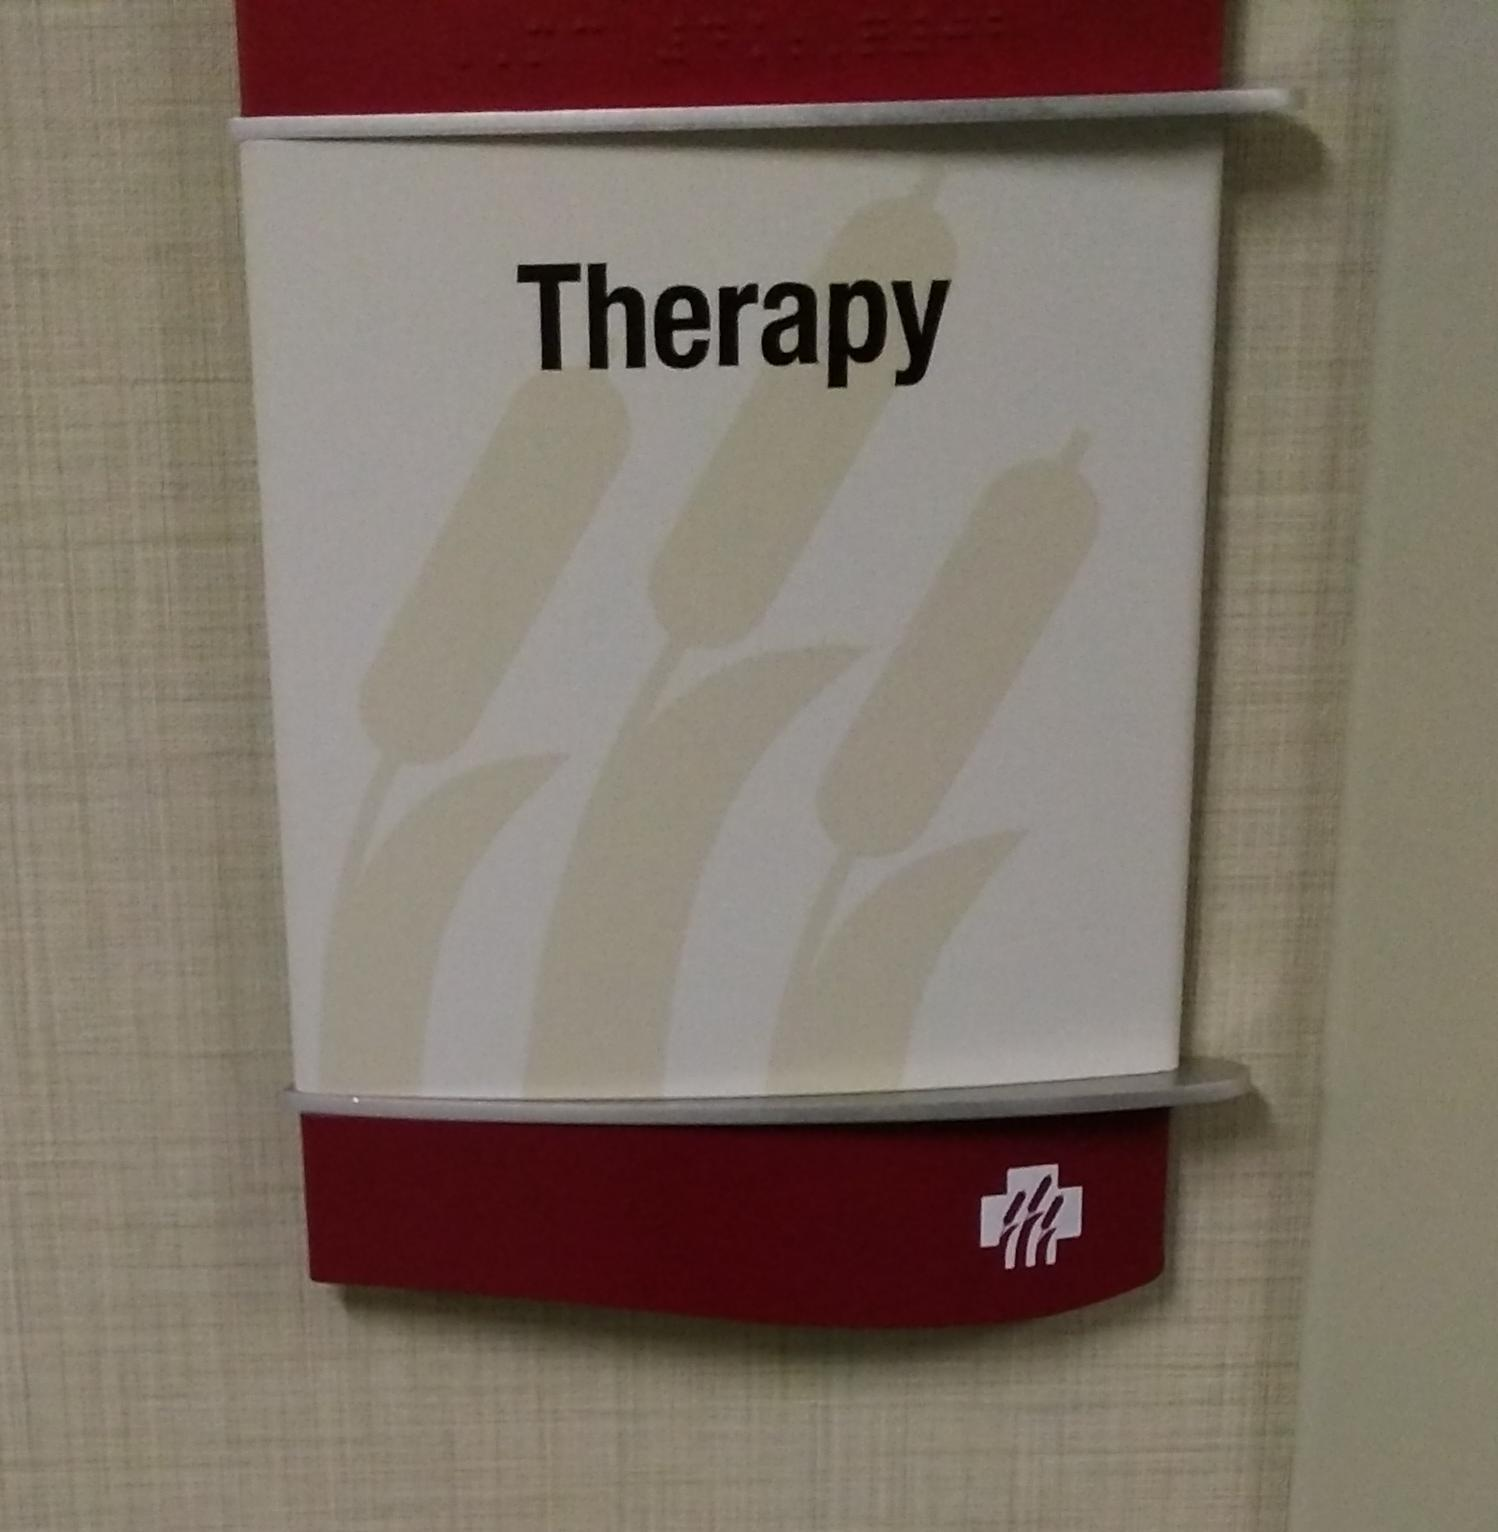sign: (224, 5, 1305, 1329)
